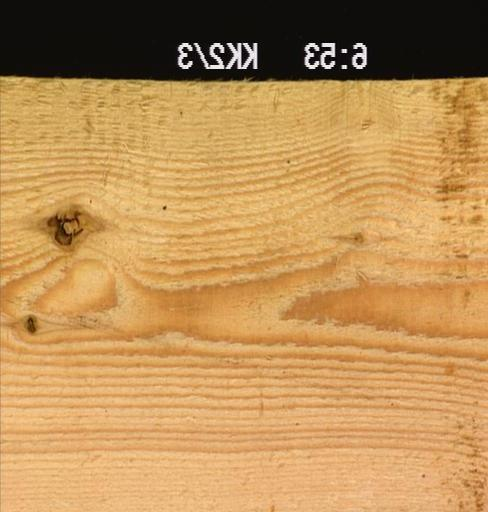dry_knot: (24, 313, 39, 334)
